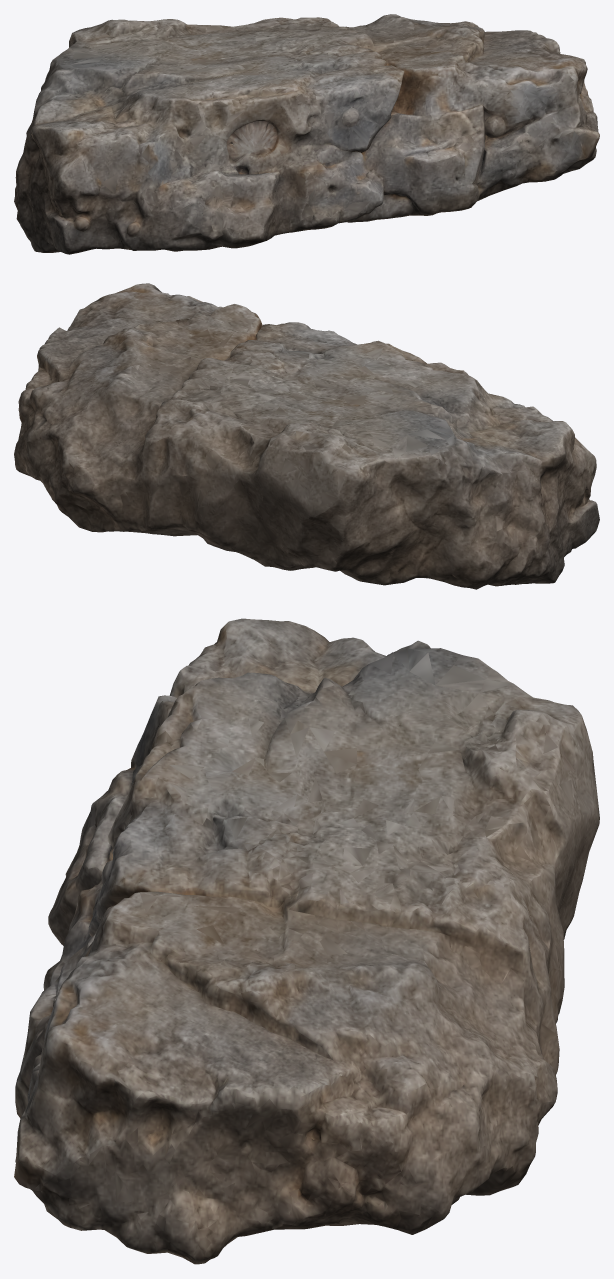
The model's file is shellstone-v0-full-lod0.gltf.
The picture shows the model from 3 angles, top to bottom: view 1: azimuth 30°, elevation 25°; view 2: azimuth 150°, elevation 25°; view 3: azimuth 270°, elevation 25°; orthographic projection. The views are drawn at different scales.
Parts seen in each view (by area): view 1: shellstone-v0-full-lod0; view 2: shellstone-v0-full-lod0; view 3: shellstone-v0-full-lod0.
Boxes of the visible parts, bbox=[...] form: shellstone-v0-full-lod0: bbox=[14, 14, 599, 254]; shellstone-v0-full-lod0: bbox=[14, 283, 599, 589]; shellstone-v0-full-lod0: bbox=[14, 618, 599, 1264].
Bounding box in the file's own units: 1.94 × 0.5328 × 1.08.
Materials: 2 (2 with a texture image).
